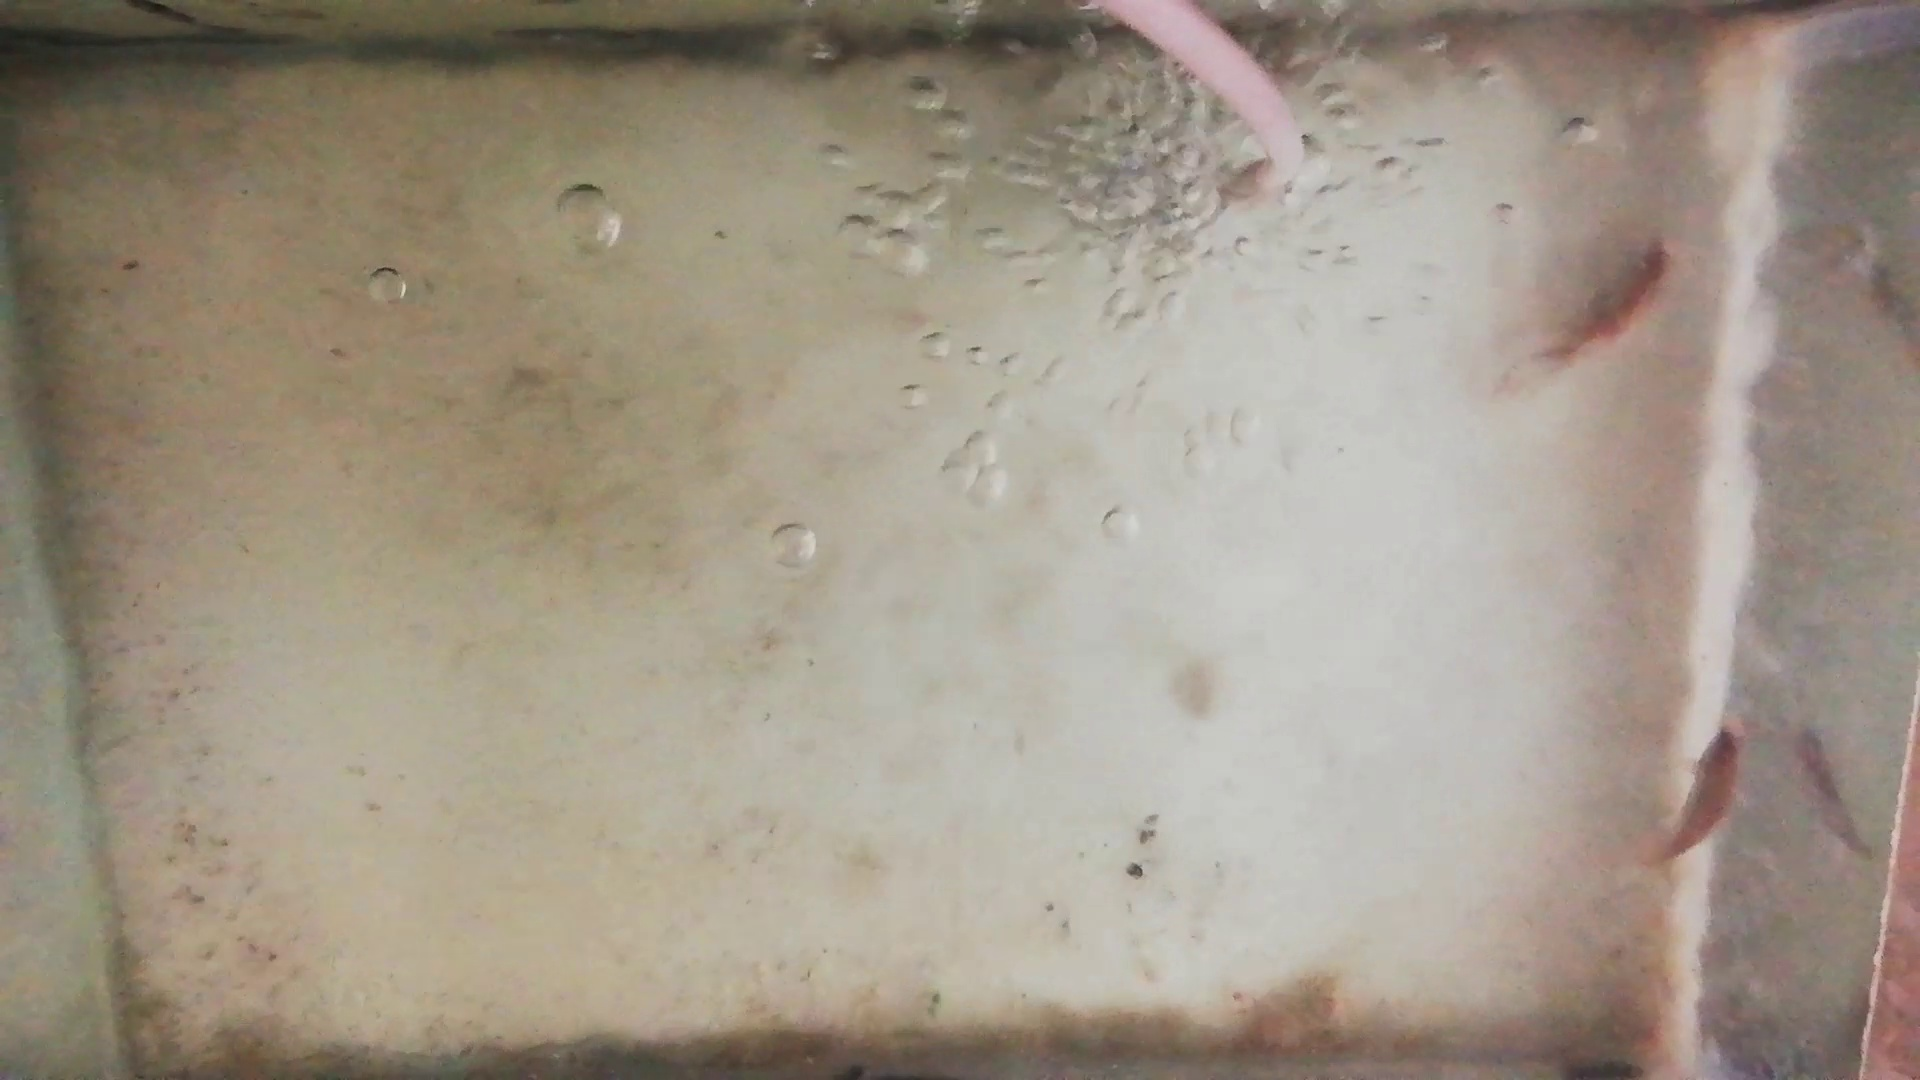fish: (1519, 233, 1675, 385), (1650, 717, 1745, 876)
